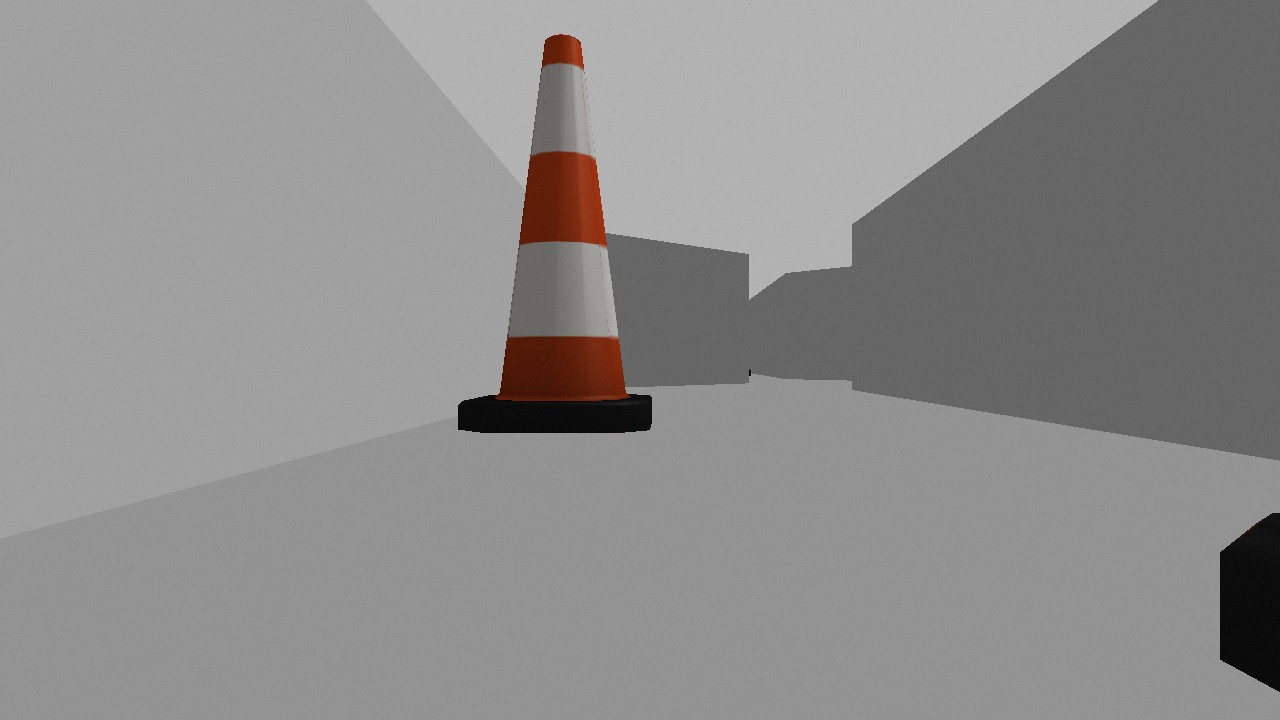barricade: (440, 23, 666, 444)
